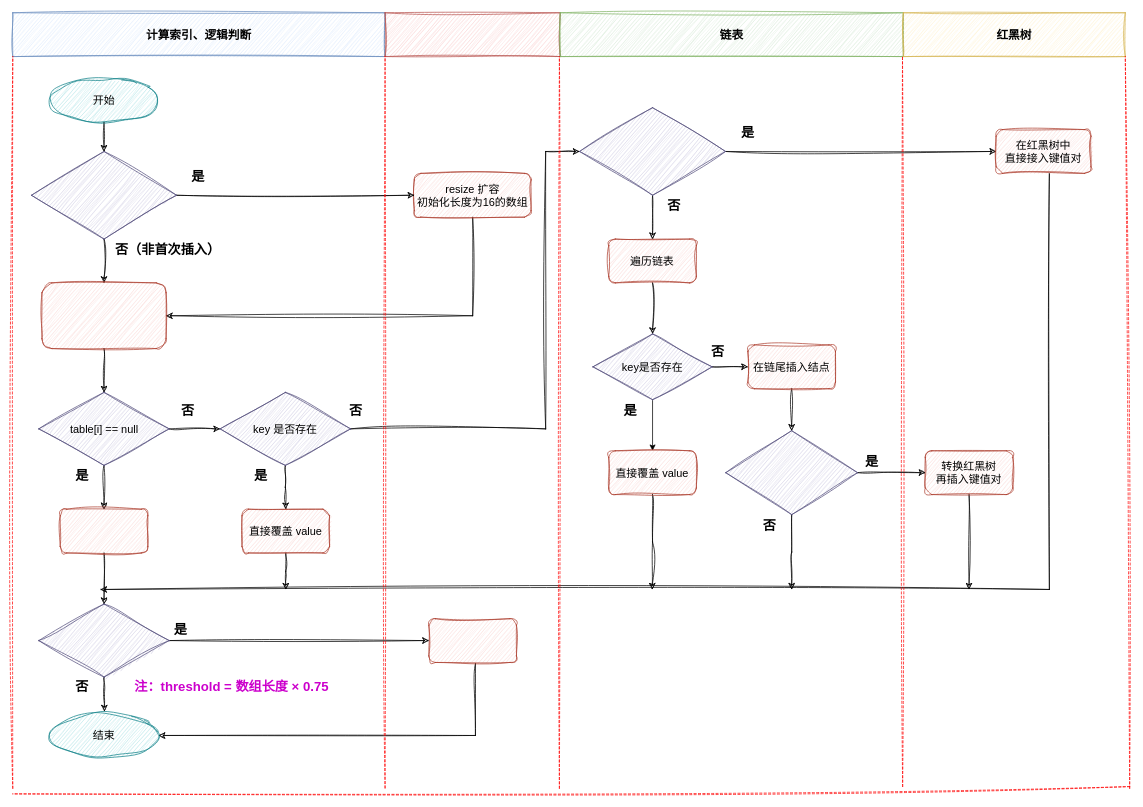
This 1143x807 diagram has some shape labels left out. Here are the shapes that lost their labels. From the top down, the centre of each, then its label:
At [472,34]: "扩容".
At [652,151]: "table[i]是否为 TreeNode（红黑树）".
At [104,195]: "table 是否为空 或 length == 0".
At [103,315]: "根据key(键)计算hash值得出插入的数组索引值".
At [791,472]: "链表长度是否大于8".
At [103,530]: "直接插入 value".
At [103,640]: "++size > threshold".
At [472,640]: "resize 扩容".
